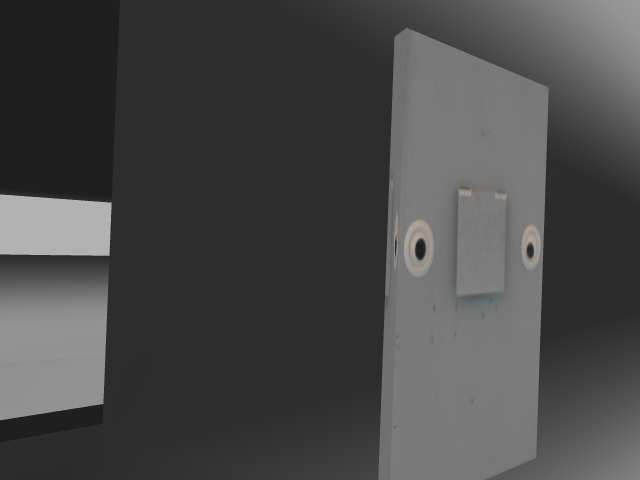facade: (401, 181, 542, 298)
